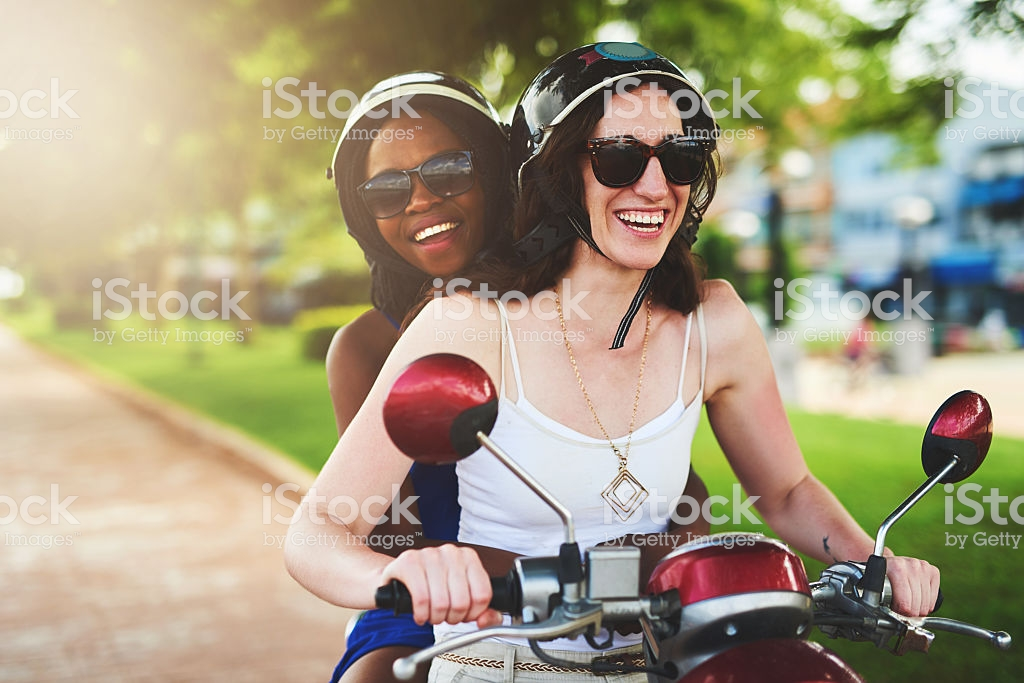helmet: (510, 35, 720, 190), (331, 59, 506, 185)
